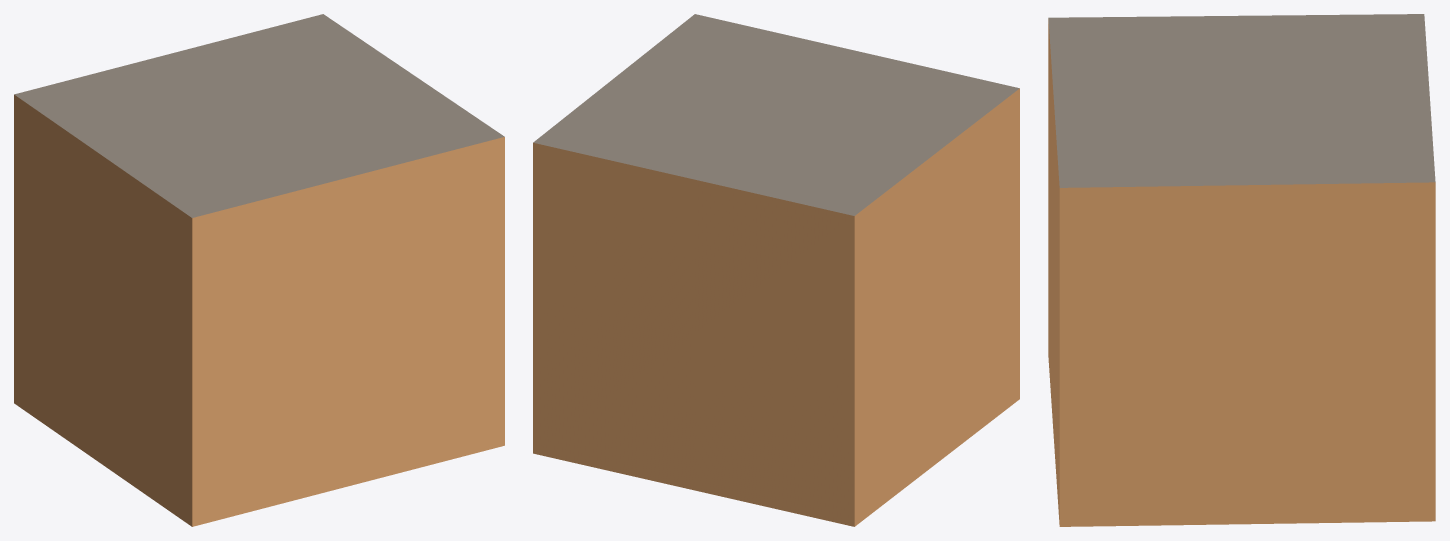
3 views of the same model, side by side, from view 1: azimuth 30°, elevation 25°; view 2: azimuth 150°, elevation 25°; view 3: azimuth 270°, elevation 25° (orthographic). The views are drawn at different scales.
Visible parts, largest first — view 1: element.011; view 2: element.011; view 3: element.011.
Boxes of the visible parts, x1=… form: element.011: x1=14, y1=14, x2=504, y2=526; element.011: x1=533, y1=14, x2=1019, y2=526; element.011: x1=1048, y1=14, x2=1435, y2=526.
Size of the model in its own units: 8.17 by 7.42 by 7.68.
